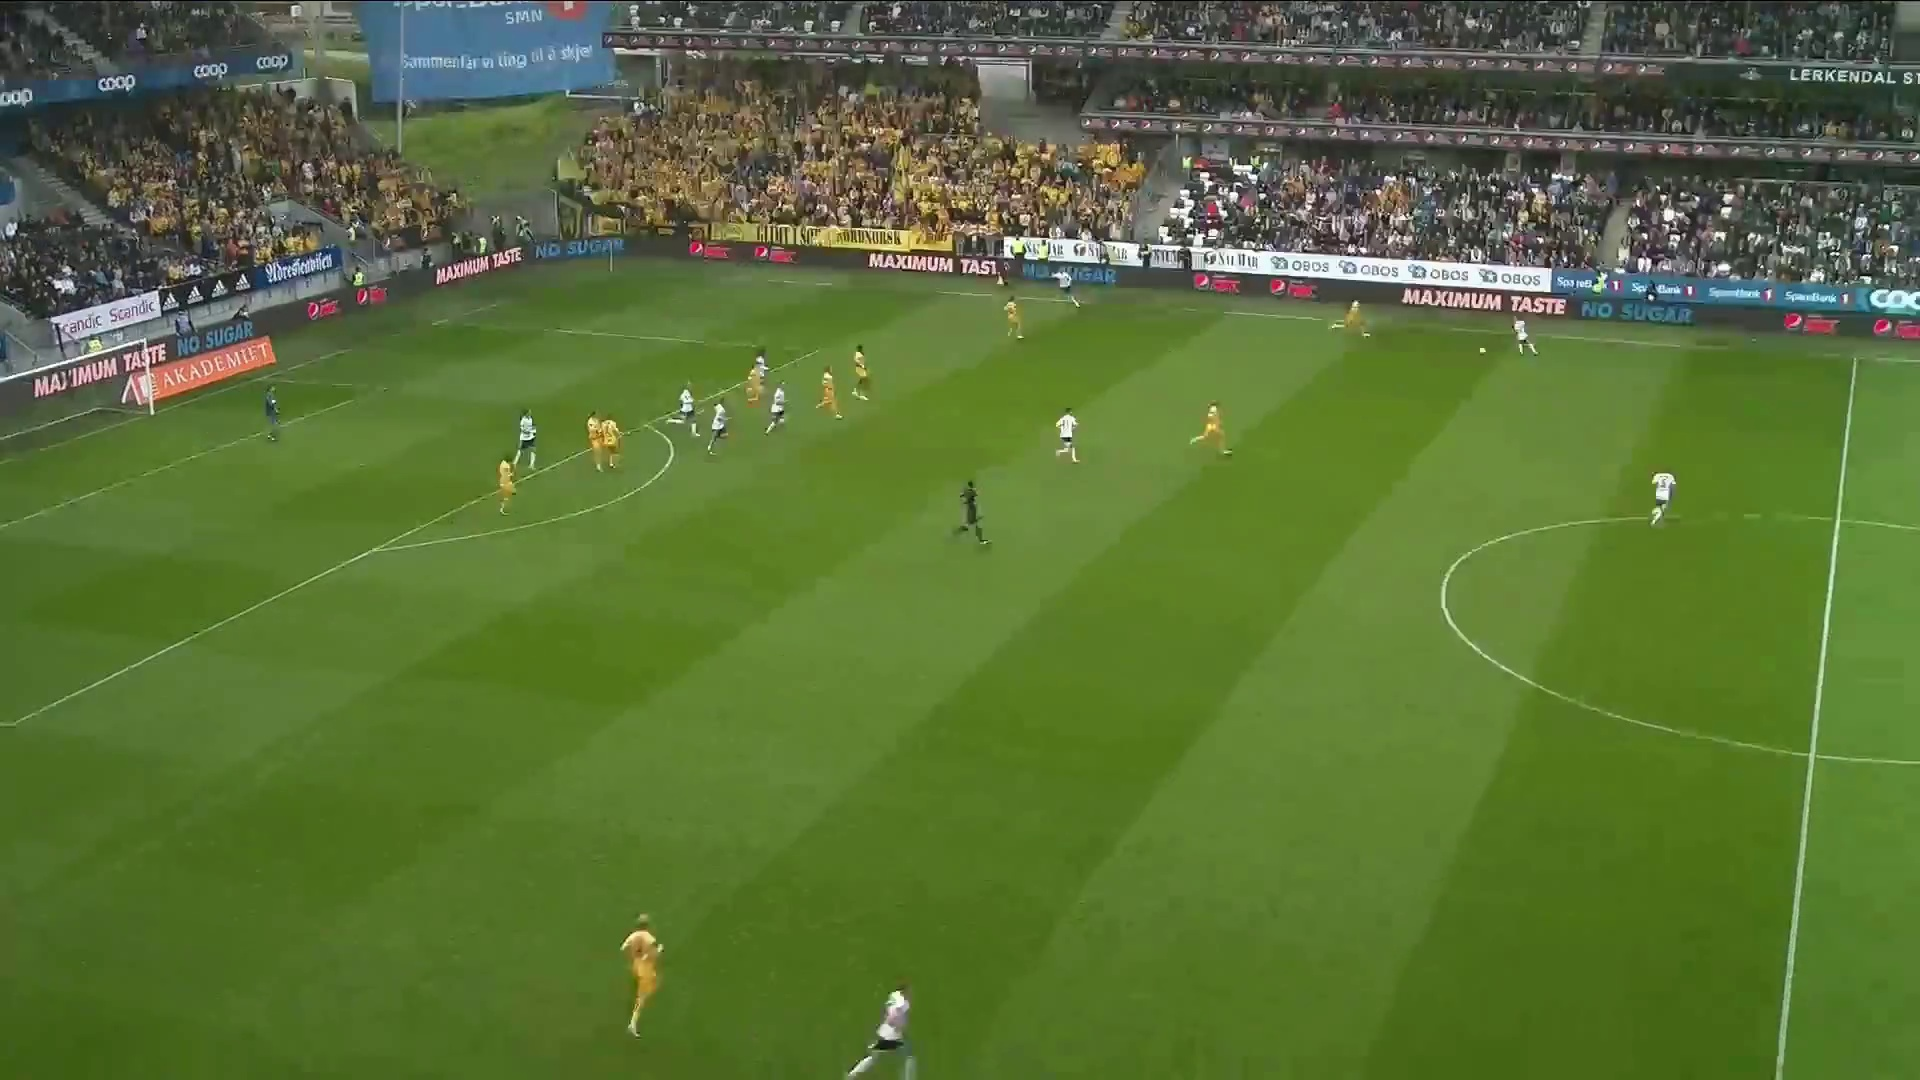ball: (1479, 346, 1487, 355)
player: (842, 978, 913, 1080), (619, 912, 665, 1040), (949, 480, 992, 545), (1188, 401, 1233, 456), (1649, 469, 1677, 528), (814, 364, 844, 419), (597, 412, 624, 472), (513, 408, 538, 470), (1055, 406, 1081, 463), (1331, 299, 1369, 338), (764, 380, 789, 435), (496, 454, 518, 515), (706, 401, 730, 455), (677, 385, 701, 438), (748, 348, 771, 401), (586, 409, 605, 473), (851, 343, 871, 400), (1053, 268, 1081, 308), (1513, 315, 1540, 356), (264, 385, 282, 442), (1003, 295, 1025, 339), (745, 362, 768, 402)
